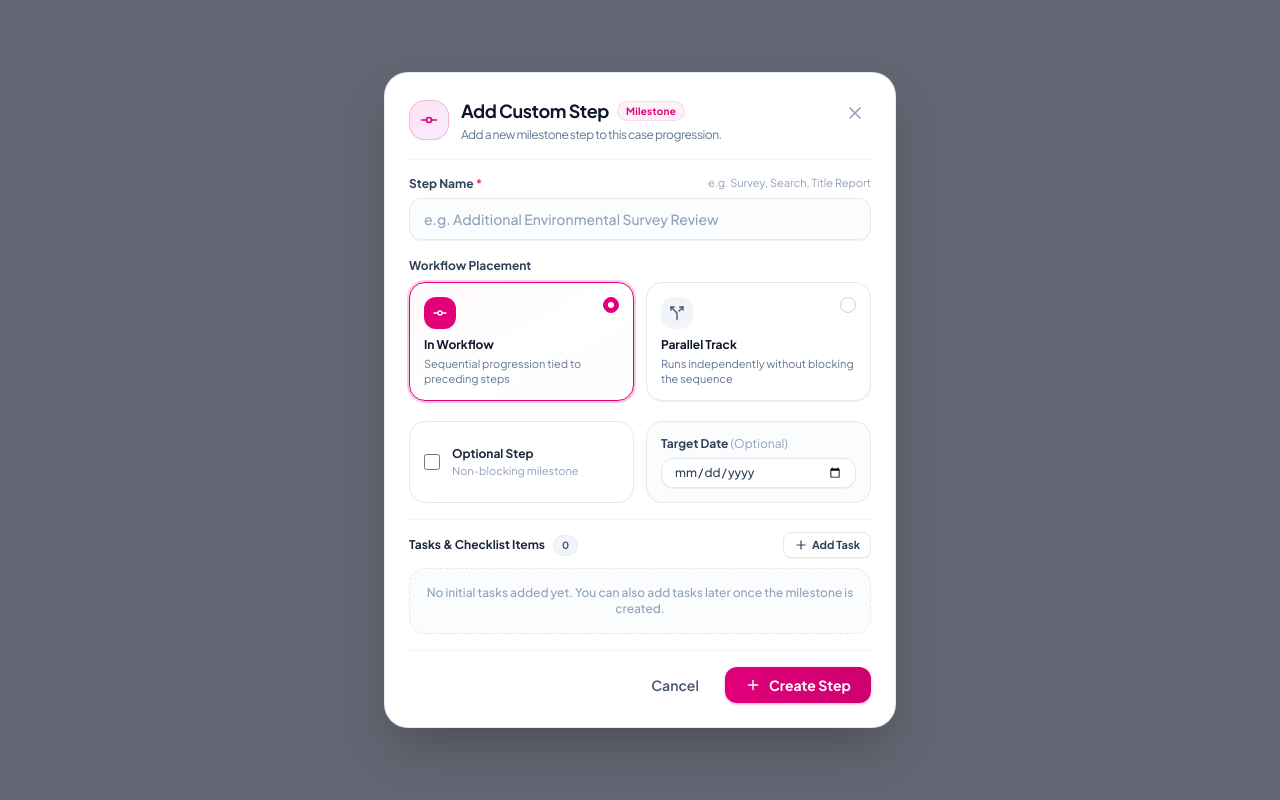
AddAdHocStepModal › validates required step name on submit
Click the button "Create Step" at (798, 685), box [725,667,871,703]
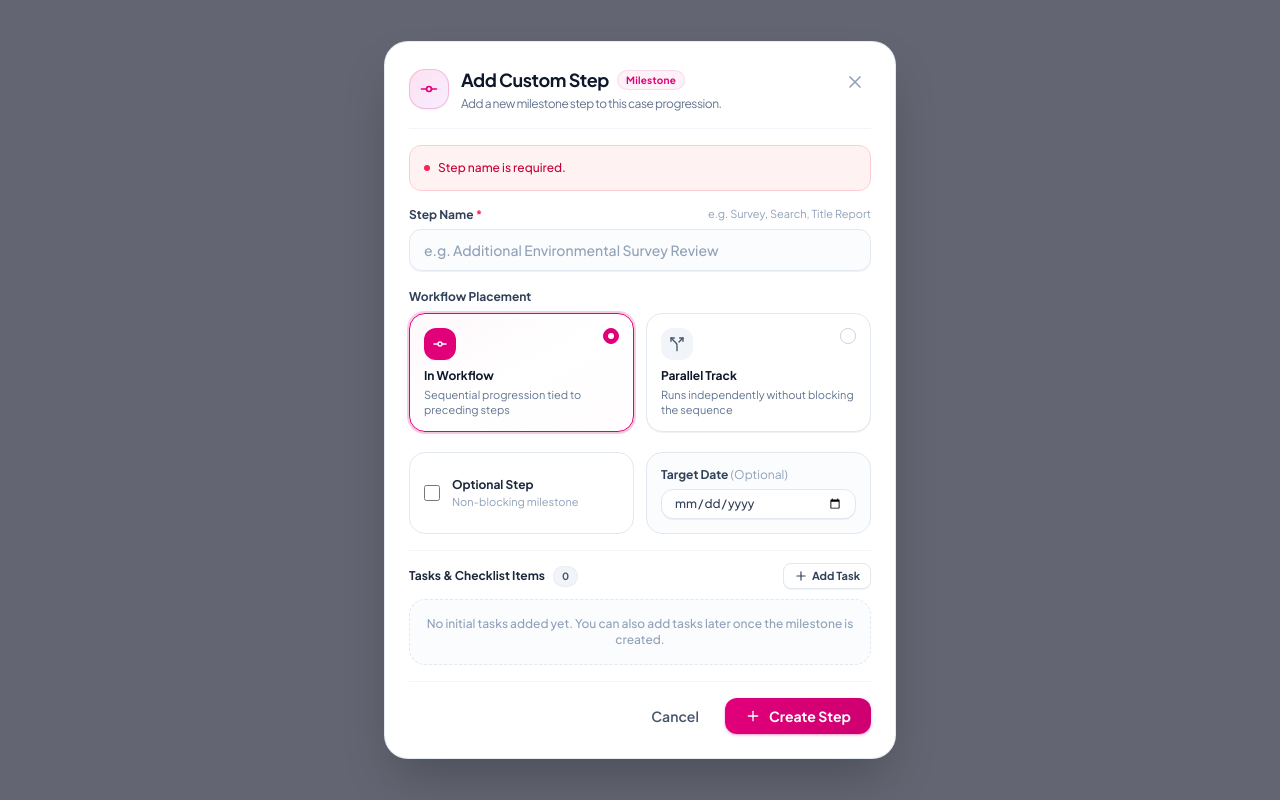
Expected: the text "Step name is required." is shown, [438,160,566,176]
